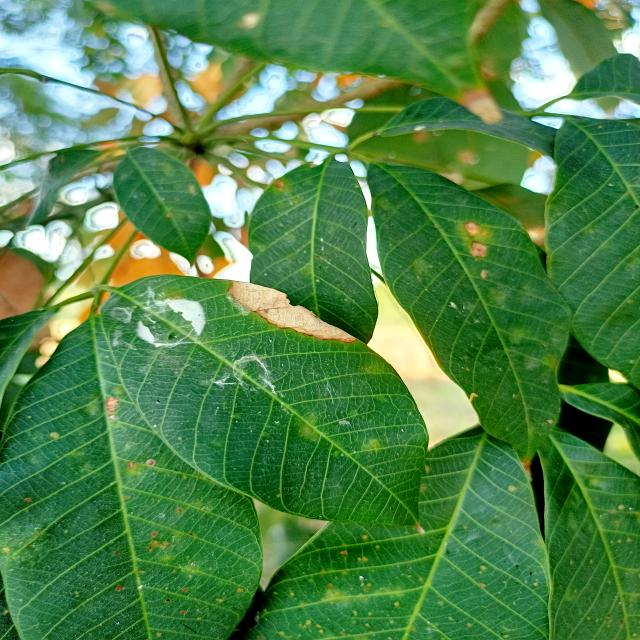Colletotrichum: (146, 459, 156, 466)
Leaf-Blight: (228, 280, 358, 343), (469, 240, 486, 258), (465, 221, 479, 237)
